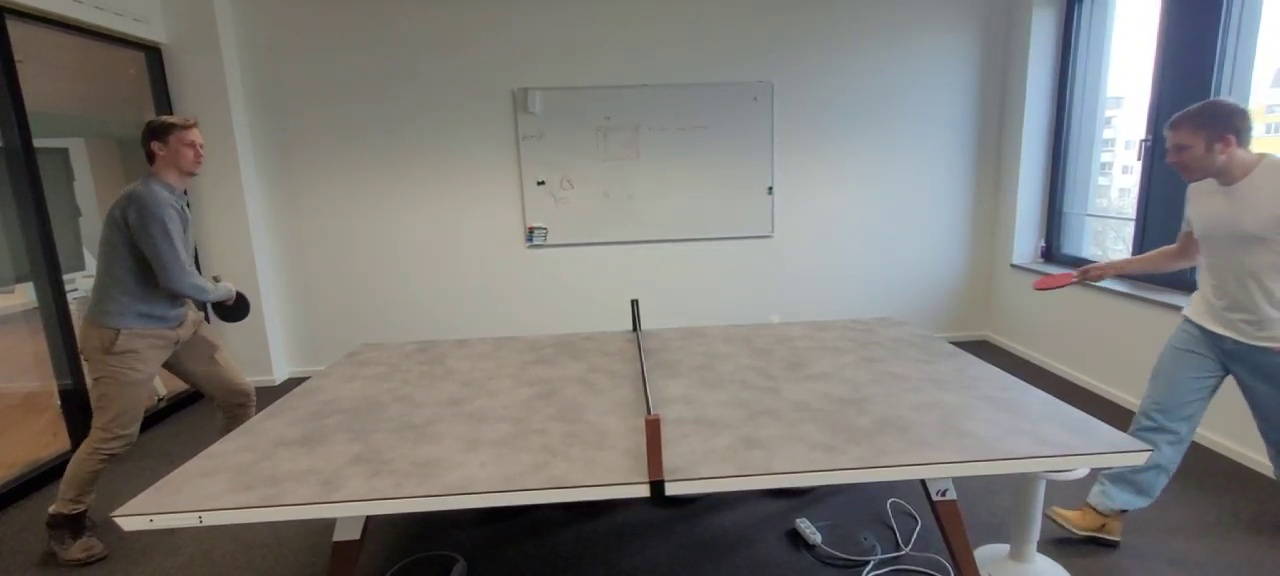1: (1032, 272, 1101, 291), (211, 290, 250, 323)
2: (768, 314, 780, 324)
ttplatte: (131, 314, 1171, 516)
